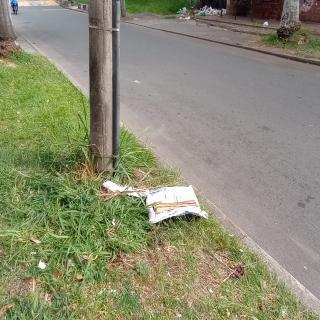Garbage: (142, 181, 213, 229), (262, 19, 271, 27)
